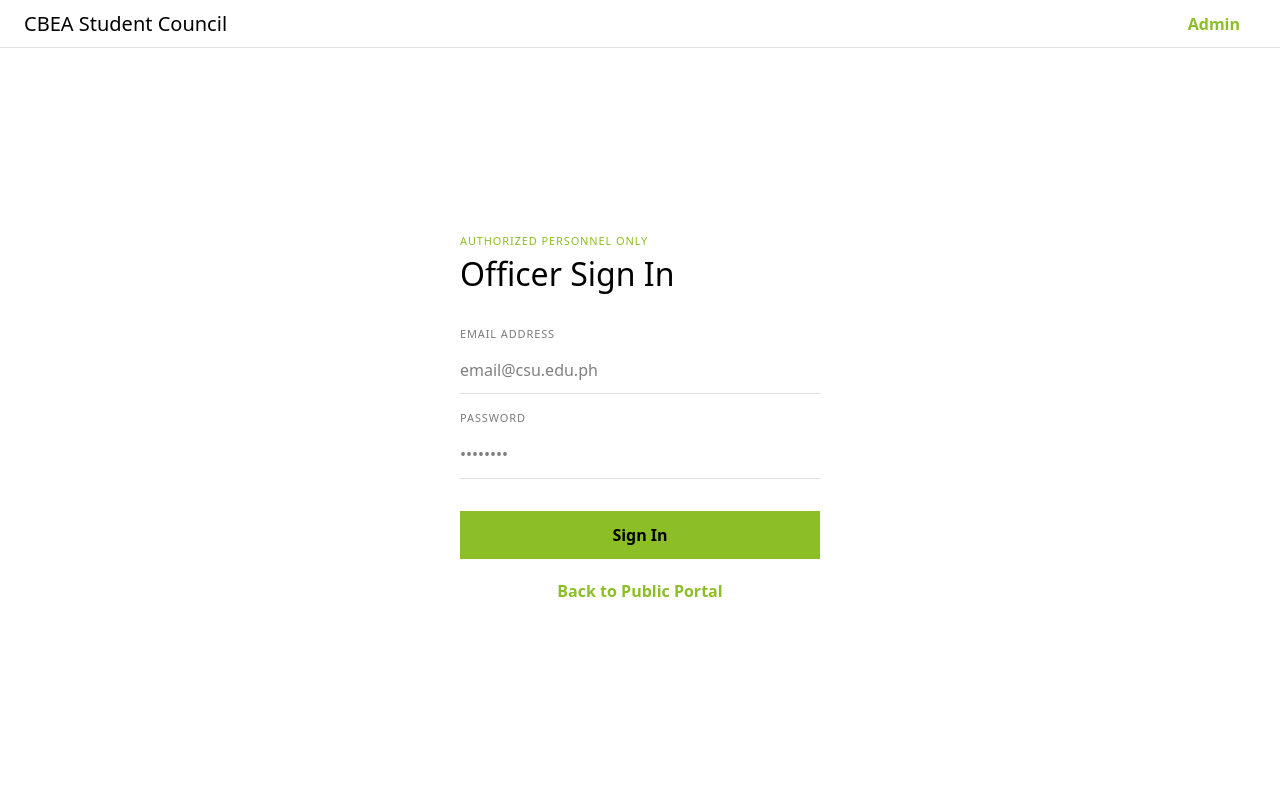
it: LoginPage Component › displays error message when authentication fails with Invalid login credentials
The width and height of the screenshot is (1280, 800).
In the field with test id "email-input": (640, 370) x1=460 y1=346 x2=820 y2=394, type "wrong@csu.edu.ph"
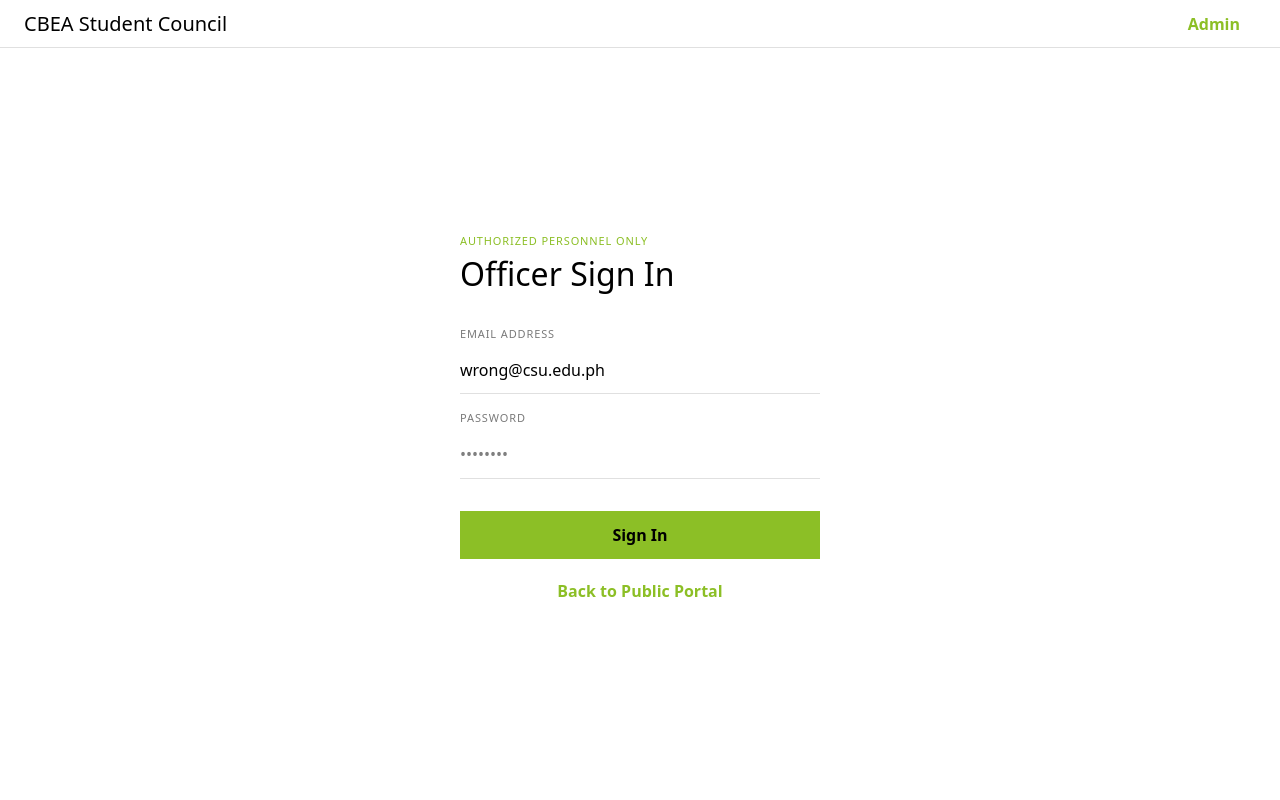
In the password field with test id "password-input": (640, 455) x1=460 y1=431 x2=820 y2=479, type "wrong-password"
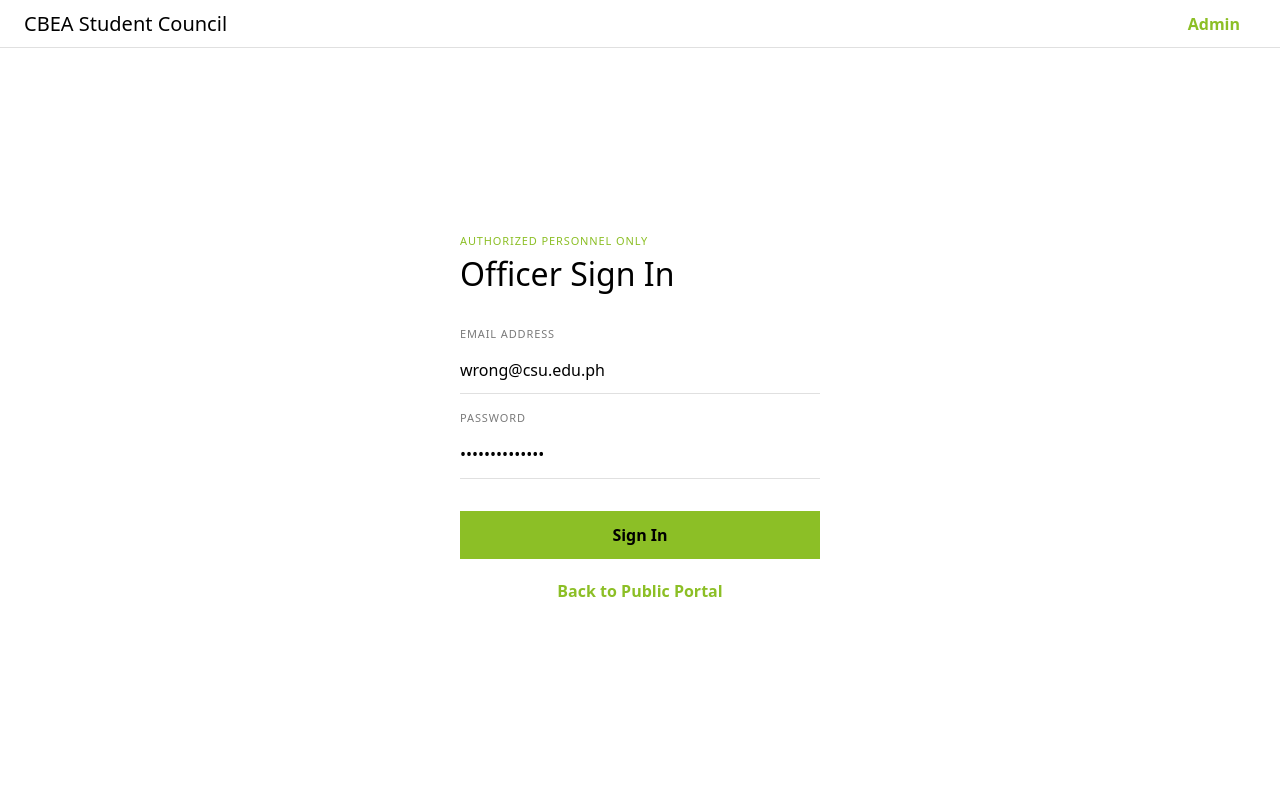
Submit the form with test id "email-input", box x1=460 y1=326 x2=820 y2=615
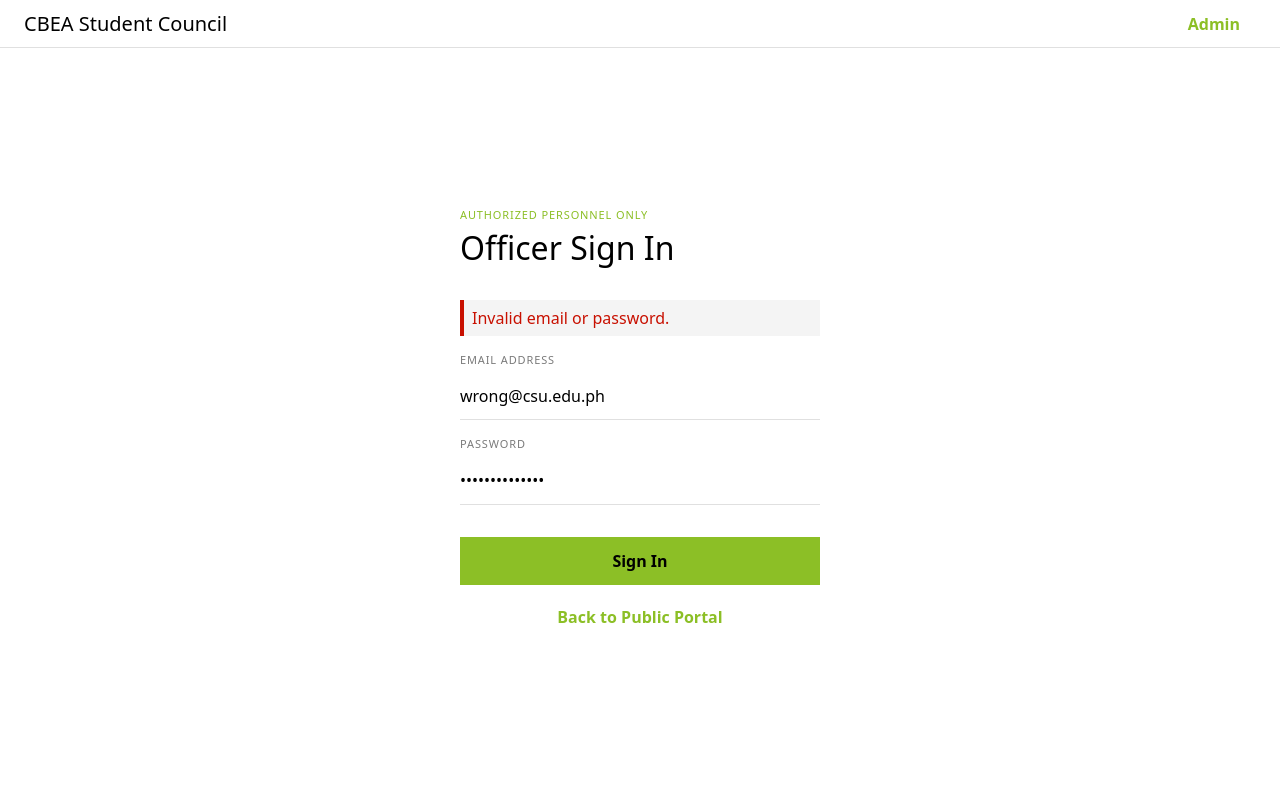
expect the message with test id "login-error-message" reads "Invalid email or password.": met, box x1=472 y1=307 x2=669 y2=329
